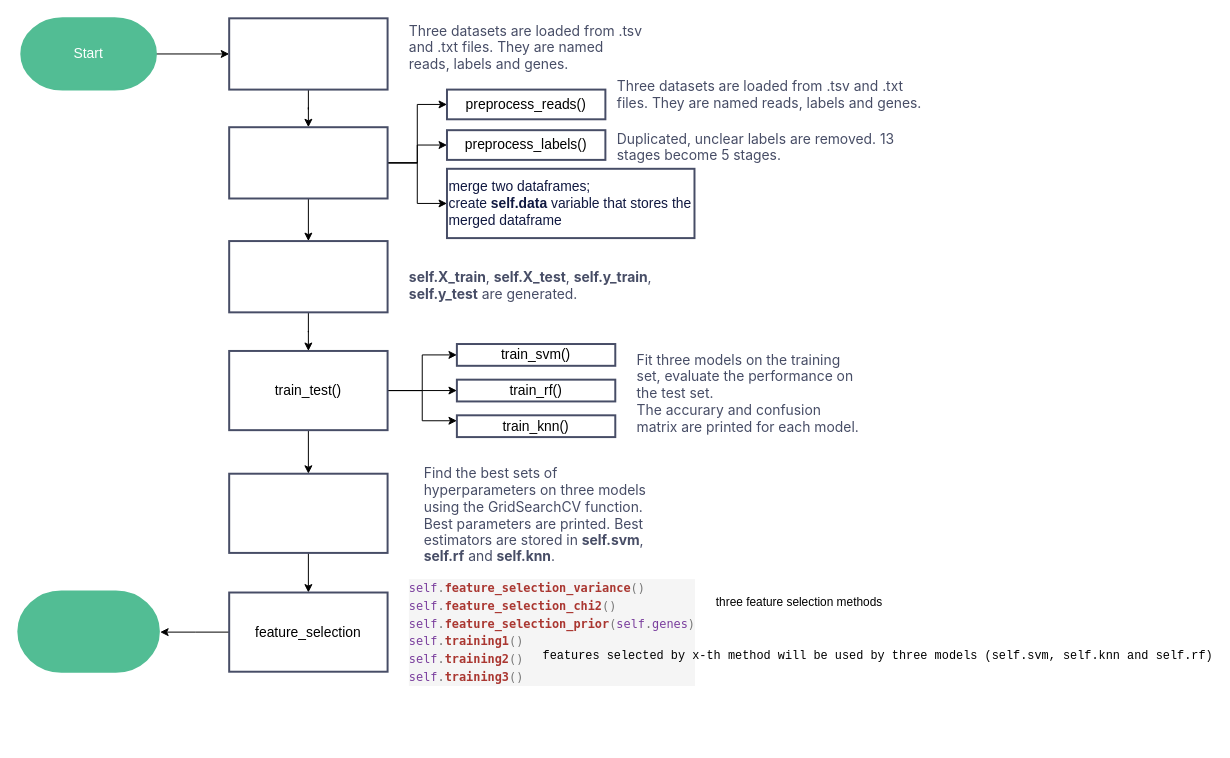
The diagram is 1230 pixels wide and 758 high, and some of its shapes have lost their labels. The centre of each missing label's shape, as x and y in pixels:
"End" belongs at (x=88, y=631).
"hyperparameter_tuning()" belongs at (x=308, y=512).
"Load data" belongs at (x=308, y=53).
"proprocessing()" belongs at (x=308, y=162).
"train_test_split()" belongs at (x=308, y=276).
